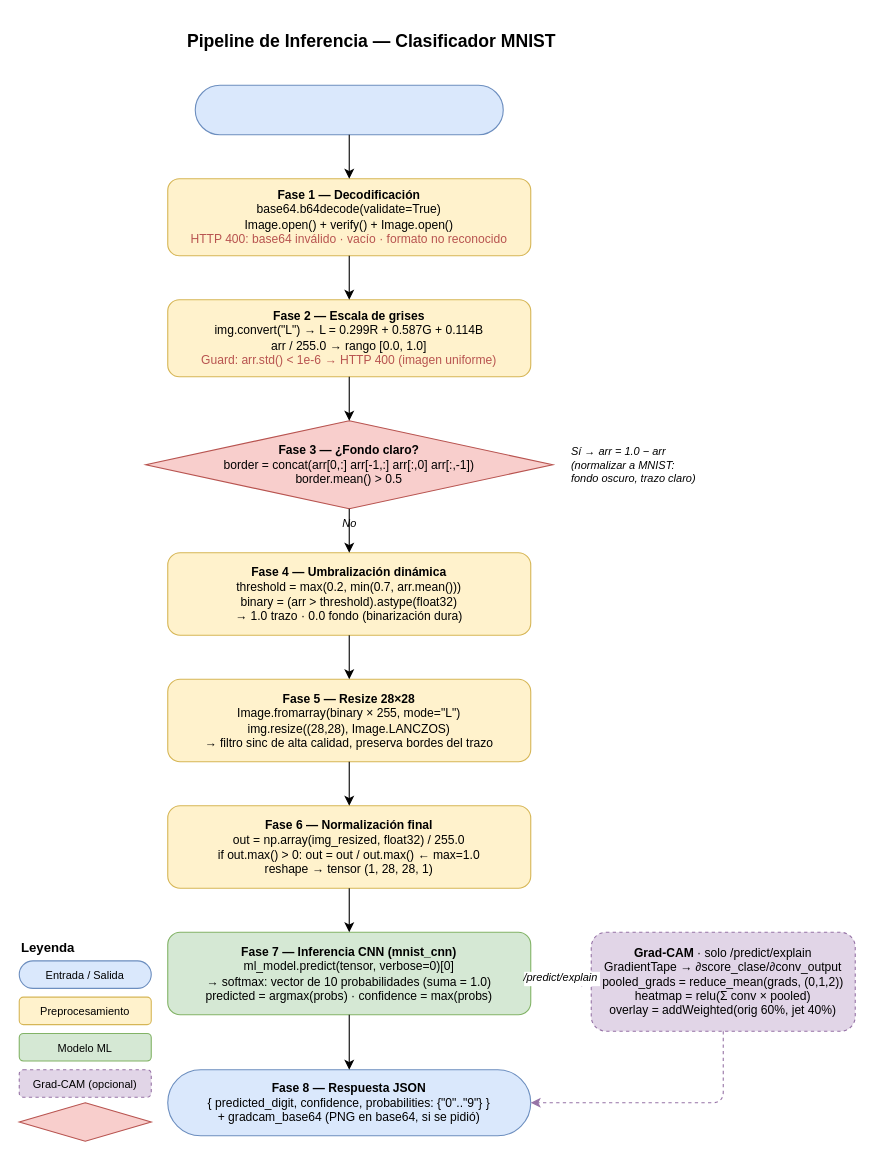
Some shapes in this 875 by 1161 pixel diagram are drawn without their labels. The shapes that lost their labels are listed below. From the top down, each one's centre as x and y in pixels, then its label:
At (348,109): "Imagen de entrada POST /predict · campo image en base64".
At (84,1121): "Decisión".
